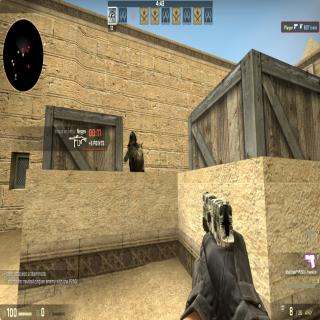CT-Body: (124, 128, 145, 172)
CT-Head: (128, 130, 138, 148)
